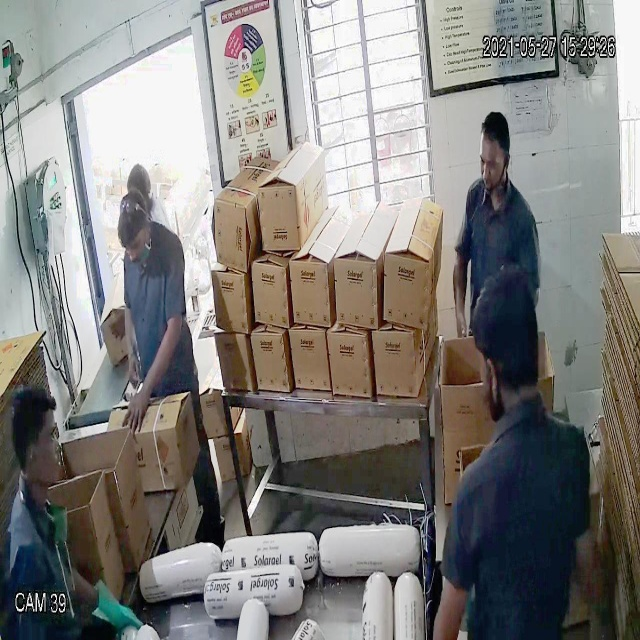Sin_gafas: (475, 149, 511, 179)
